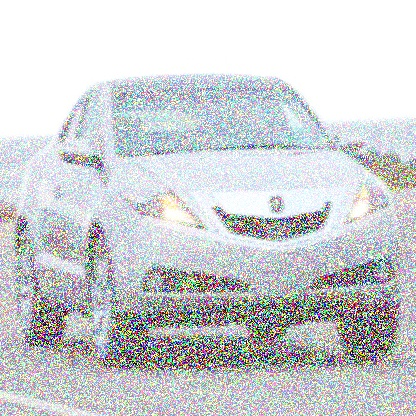Vehicle: (16, 73, 402, 369)
